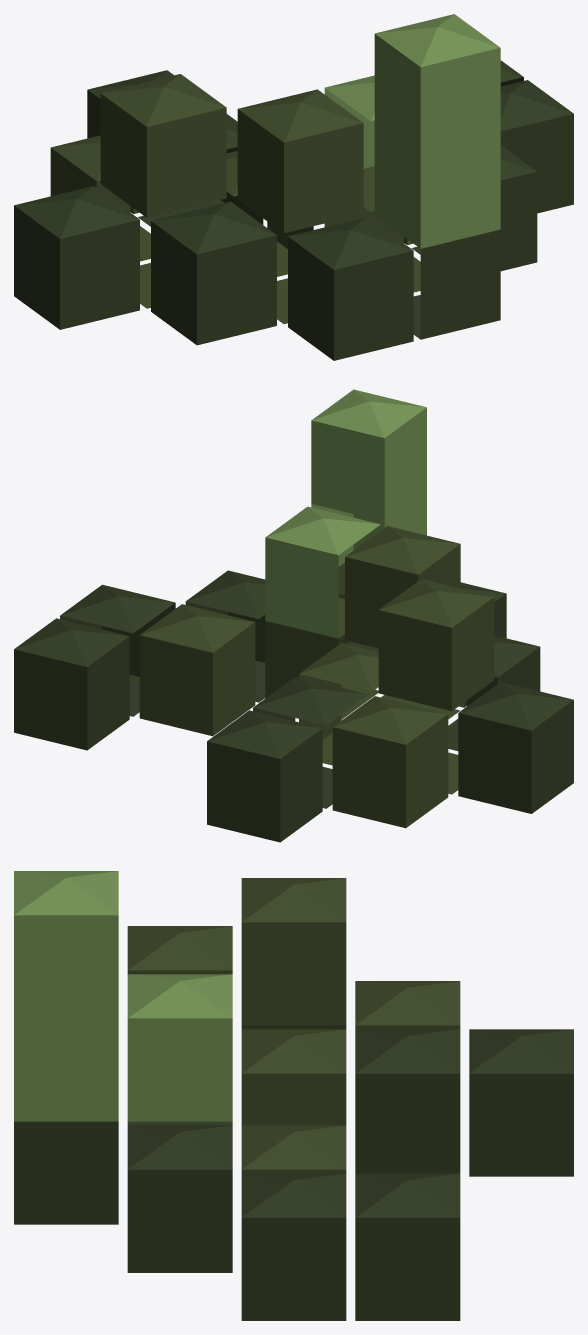
File: moss_tree_base.glb
3 renders of one model, top to bottom at view 1: azimuth 30°, elevation 25°; view 2: azimuth 150°, elevation 25°; view 3: azimuth 270°, elevation 25°, orthographic. The views are drawn at different scales.
Parts seen in each view (by area): view 1: moss_tree_base; view 2: moss_tree_base; view 3: moss_tree_base.
Boxes of the visible parts, x1,y1,x2,y2 form: moss_tree_base: [14, 14, 573, 360]; moss_tree_base: [14, 389, 573, 842]; moss_tree_base: [14, 871, 573, 1320].
Size of the model in its own units: 0.592 by 0.315 by 0.492.
1 material, 1 textured.
